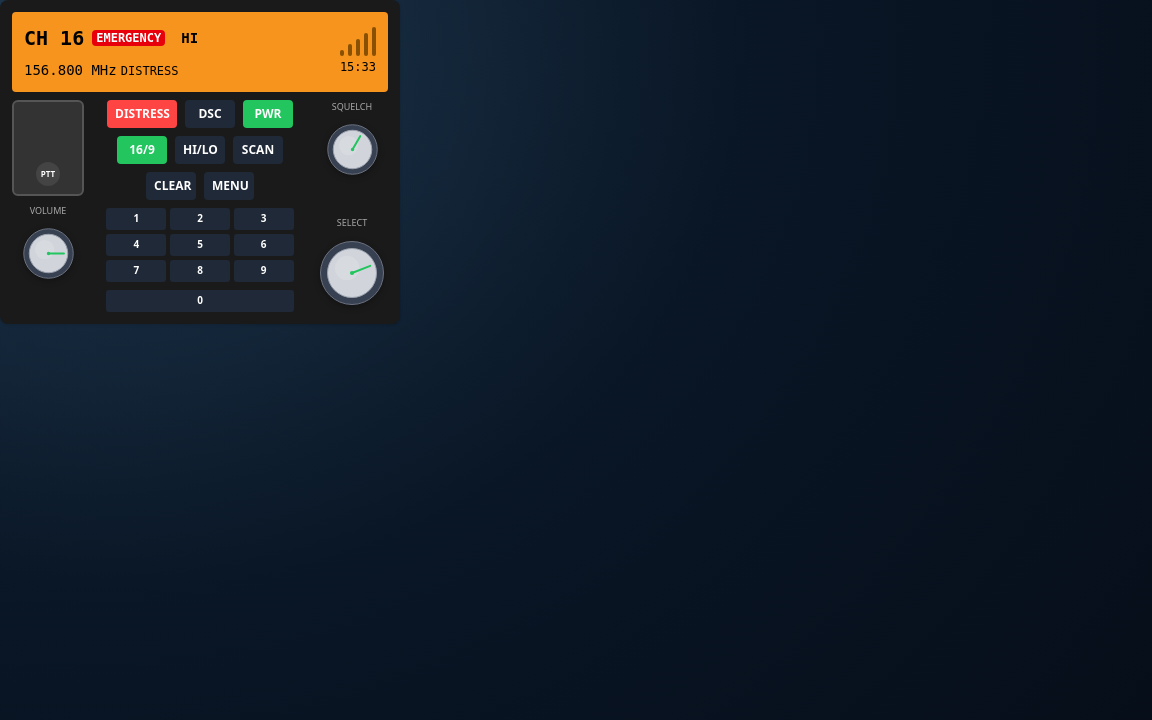
Test case: MarineRadio › toggles position display with clear button
The width and height of the screenshot is (1152, 720).
Click the button "CLEAR". click: {"x": 171, "y": 186}
box: left=146, top=172, right=196, bottom=200
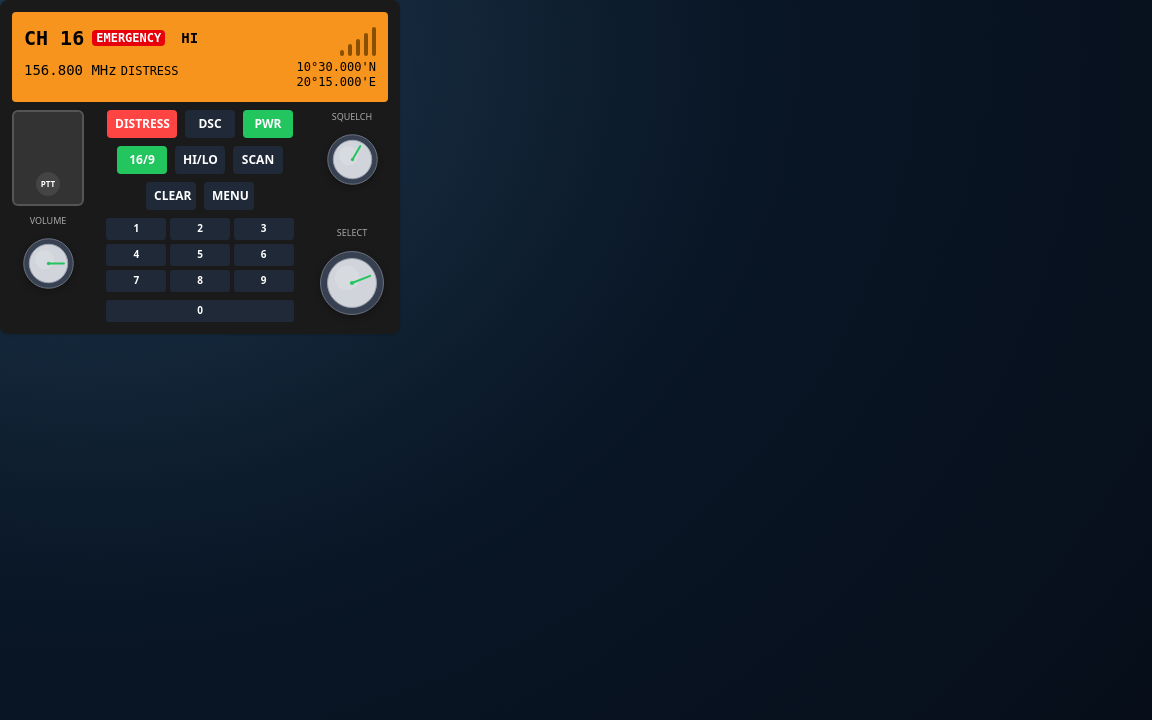
Expected: the text "10°30.000'N" is shown, left=296, top=60, right=376, bottom=75
Expected: the text "20°15.000'E" is shown, left=296, top=75, right=376, bottom=90
